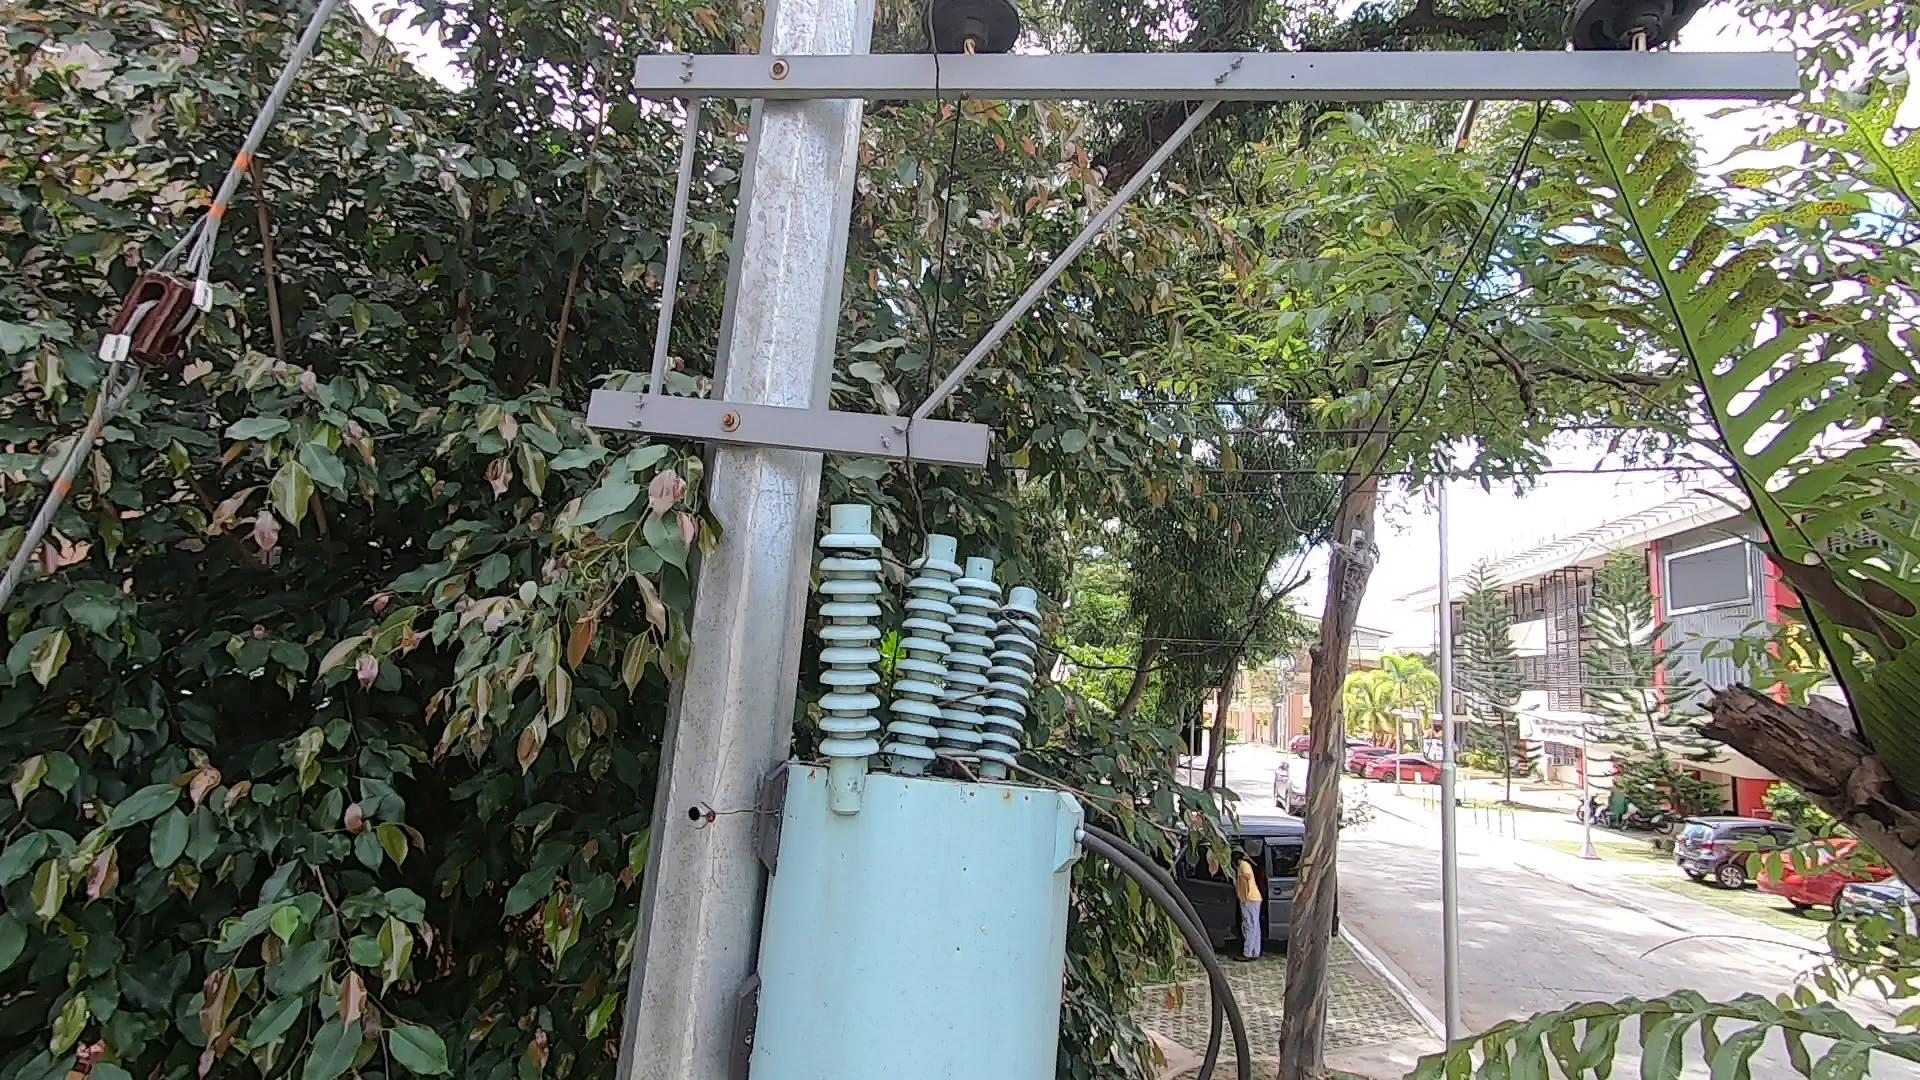tree branch: (872, 735, 1201, 852), (935, 750, 981, 785)
